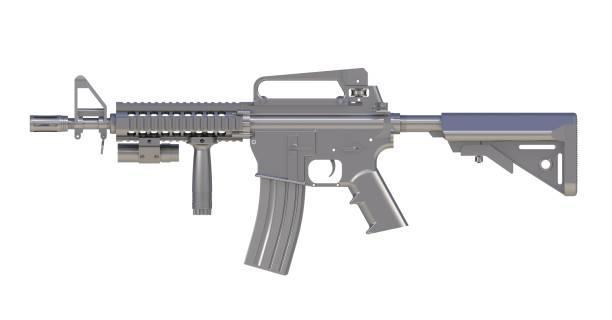larga: (29, 66, 578, 276)
